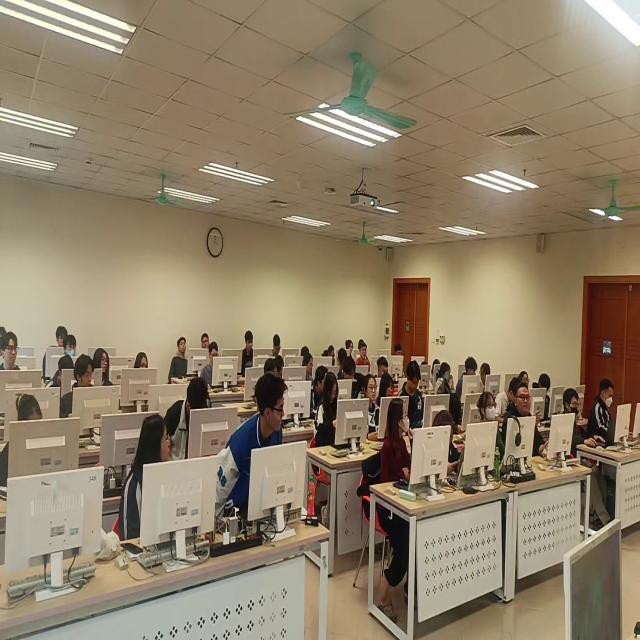raise_head: (213, 371, 287, 534), (505, 381, 551, 459), (377, 396, 413, 484), (477, 389, 508, 470), (61, 354, 95, 421), (360, 371, 383, 445), (169, 333, 191, 385), (1, 331, 21, 378), (94, 348, 115, 389), (61, 333, 79, 360), (131, 349, 150, 372), (358, 340, 372, 371), (53, 324, 70, 349), (264, 356, 281, 379), (1, 325, 10, 362), (518, 367, 532, 387), (201, 330, 212, 351)
using_computer: (1, 390, 48, 496), (164, 375, 214, 462), (430, 409, 467, 480), (561, 388, 607, 445), (396, 357, 428, 431), (586, 376, 617, 443), (200, 339, 222, 390), (45, 353, 75, 390), (310, 362, 329, 419), (496, 375, 520, 420), (533, 371, 553, 420), (341, 355, 362, 400), (436, 362, 458, 401), (242, 328, 255, 377), (395, 338, 408, 378), (303, 352, 318, 384), (336, 347, 349, 381), (377, 356, 391, 380), (432, 357, 441, 390), (322, 344, 335, 365), (272, 332, 282, 355), (299, 344, 312, 358), (347, 334, 355, 356), (422, 357, 429, 372)
using_phone: (315, 370, 342, 447)
